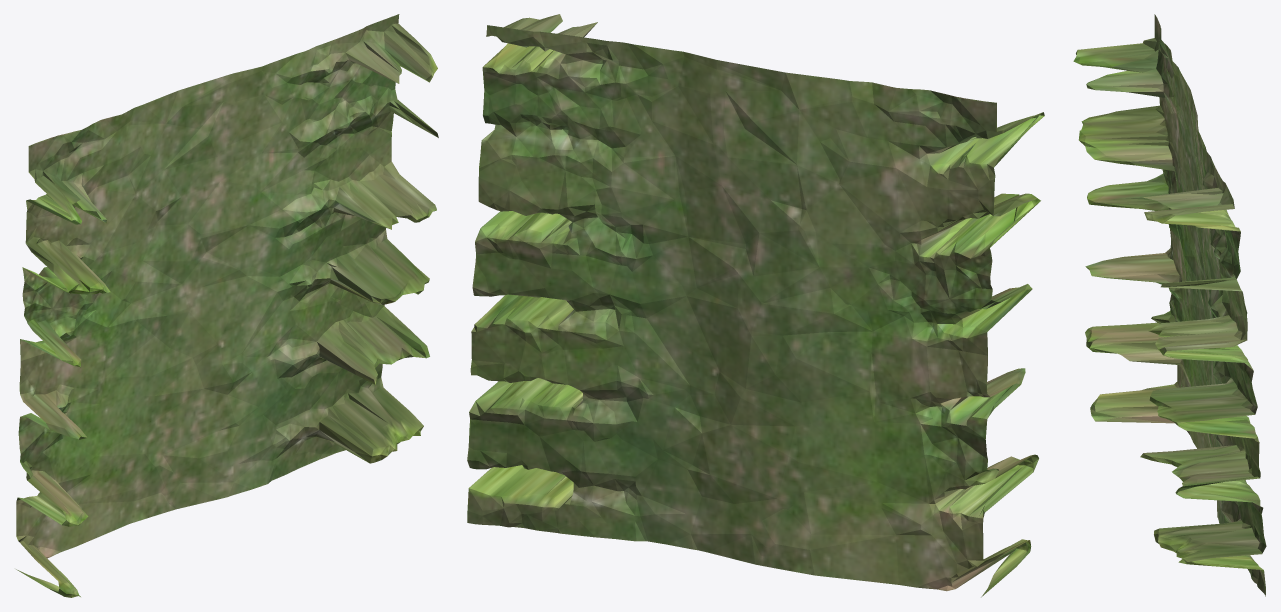
File: map_200_10.obj
3 renders of one model, left to right at view 1: azimuth 30°, elevation 25°; view 2: azimuth 150°, elevation 25°; view 3: azimuth 270°, elevation 25°, orthographic. The views are drawn at different scales.
Parts seen in each view (by area): view 1: grp1; view 2: grp1; view 3: grp1.
Boxes of the visible parts, x1,y1,x2,y2 form: grp1: (16, 14, 438, 597); grp1: (467, 14, 1044, 597); grp1: (1073, 14, 1266, 596).
Size of the model in its own units: 10 by 10 by 4.4.
1 material, 1 textured.
